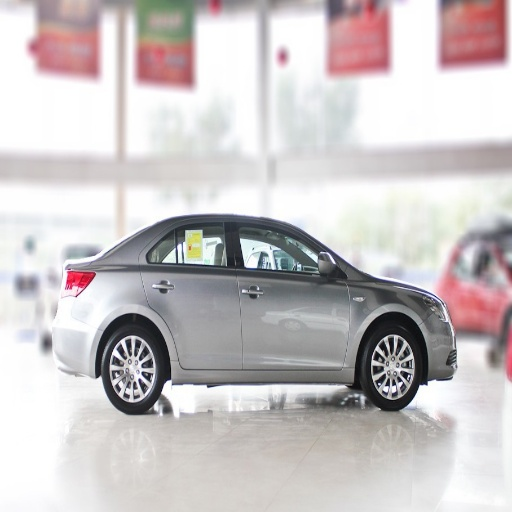back_right_door: (142, 217, 242, 368)
front_right_door: (234, 218, 350, 369)
